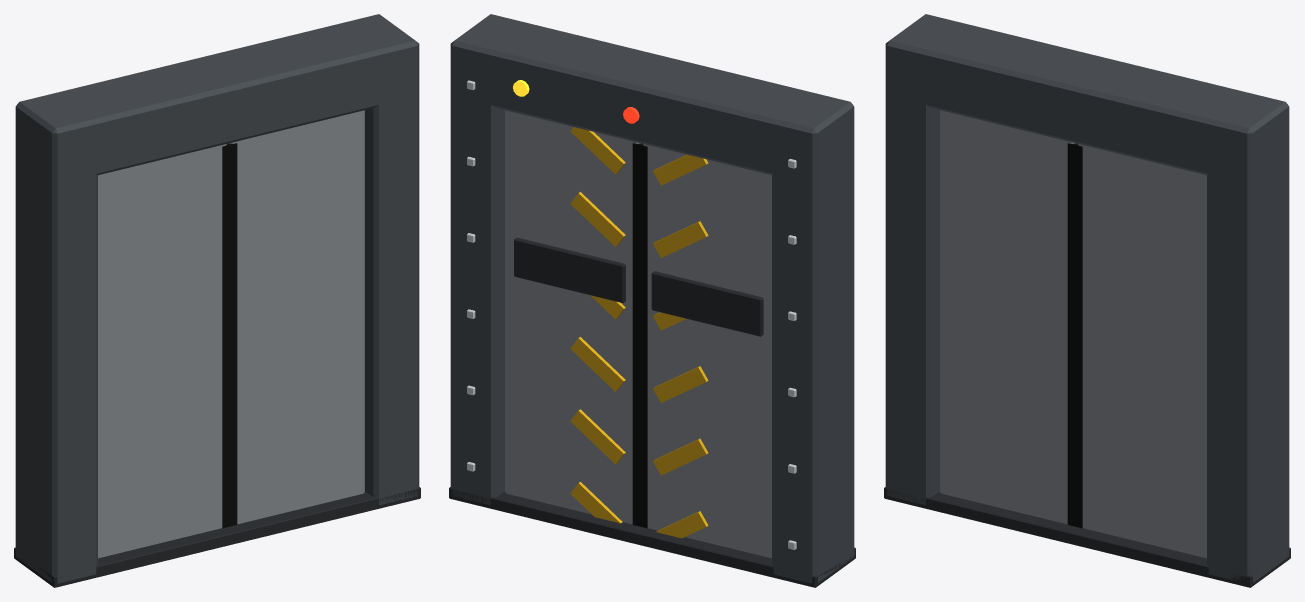
The model's file is blast_door.glb.
3 renders of one model, left to right at view 1: azimuth 30°, elevation 25°; view 2: azimuth 150°, elevation 25°; view 3: azimuth 330°, elevation 25°, orthographic.
Visible parts, largest first — view 1: base, leaf_r, leaf_l; view 2: base, leaf_r, leaf_l; view 3: base, leaf_l, leaf_r.
Boxes of the visible parts, left/top/right/bottom form: base: left=14, top=14, right=420, bottom=587; leaf_r: left=228, top=110, right=364, bottom=526; leaf_l: left=98, top=143, right=229, bottom=558; base: left=449, top=14, right=855, bottom=587; leaf_r: left=505, top=110, right=641, bottom=526; leaf_l: left=640, top=143, right=771, bottom=558; base: left=884, top=14, right=1290, bottom=587; leaf_l: left=940, top=110, right=1076, bottom=526; leaf_r: left=1075, top=143, right=1206, bottom=558.
Size of the model in its own units: 2 by 2.4 by 0.4.
